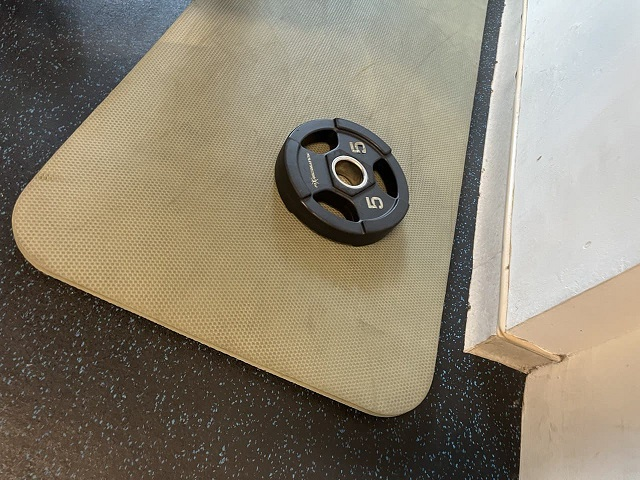weights: (272, 113, 410, 249)
